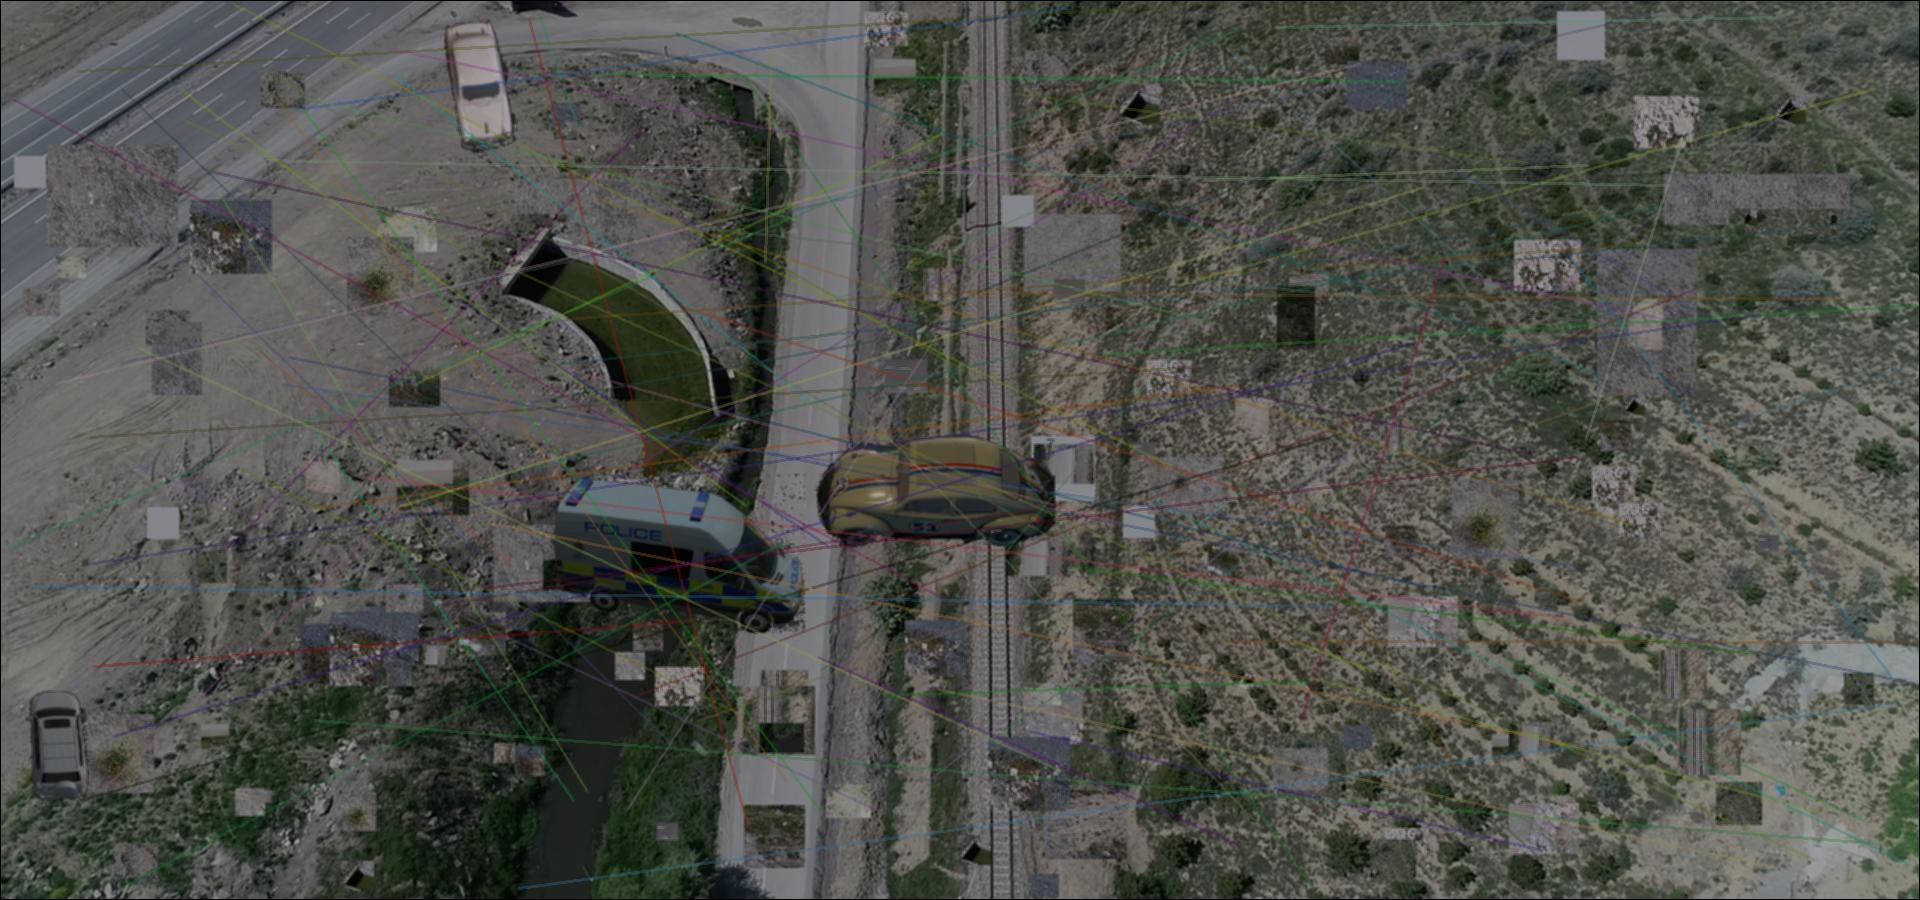arac: (551, 474, 804, 633), (816, 432, 1056, 550), (436, 17, 525, 153), (22, 689, 94, 801)
